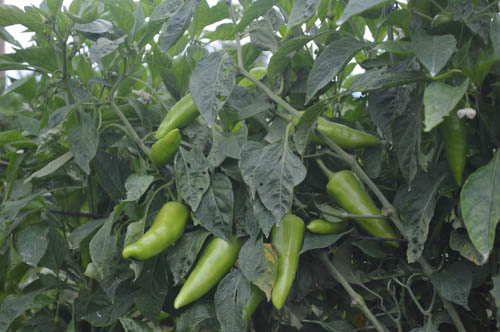ChiliPepper: (168, 235, 239, 316), (331, 168, 397, 244), (119, 201, 191, 264), (269, 219, 306, 311), (294, 112, 383, 150), (155, 94, 202, 143), (441, 116, 466, 187), (143, 131, 183, 171), (307, 218, 347, 240)
